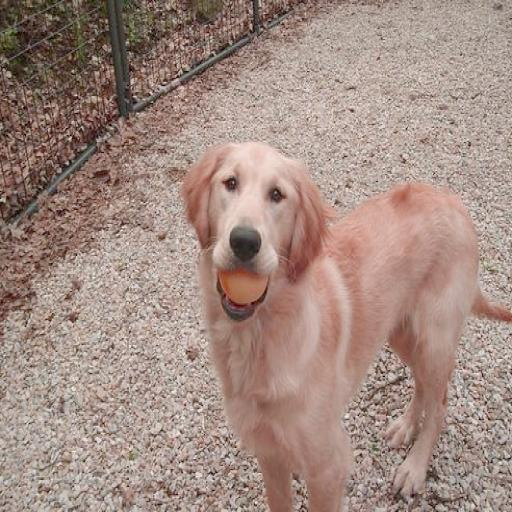dog_face: (182, 153, 319, 314)
